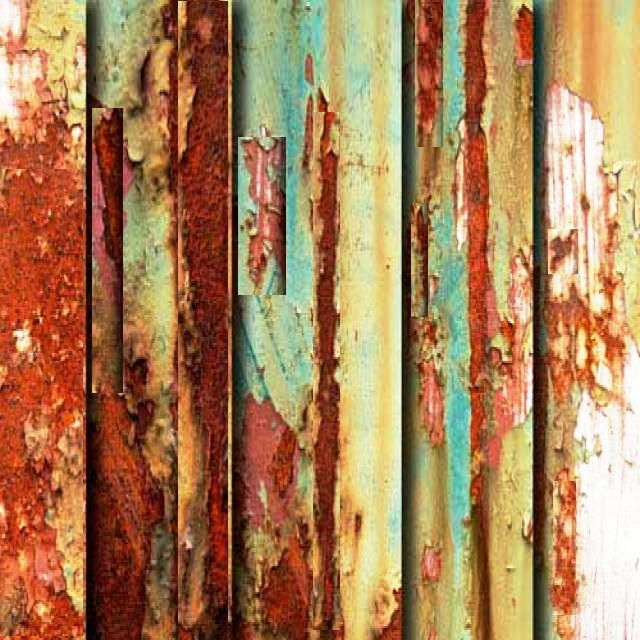Corrosion: (0, 99, 84, 640), (178, 0, 232, 640), (282, 105, 342, 640), (463, 0, 511, 640), (236, 400, 312, 640), (88, 395, 147, 640), (420, 421, 462, 640), (92, 108, 124, 394), (91, 277, 110, 392)
